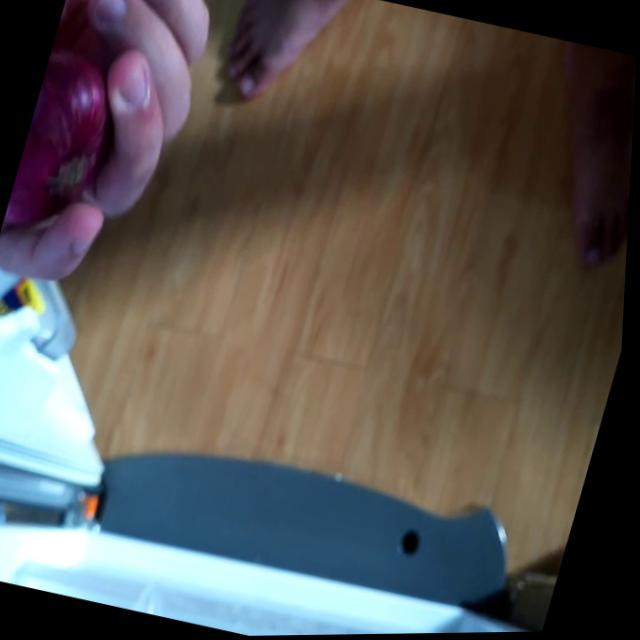onion: (2, 47, 131, 249)
